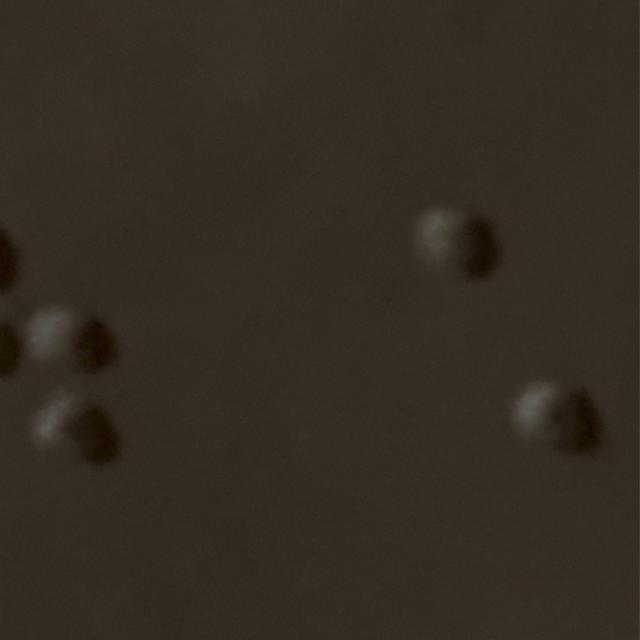one_cell_non_alphabet_kanila: (425, 212, 602, 452)
